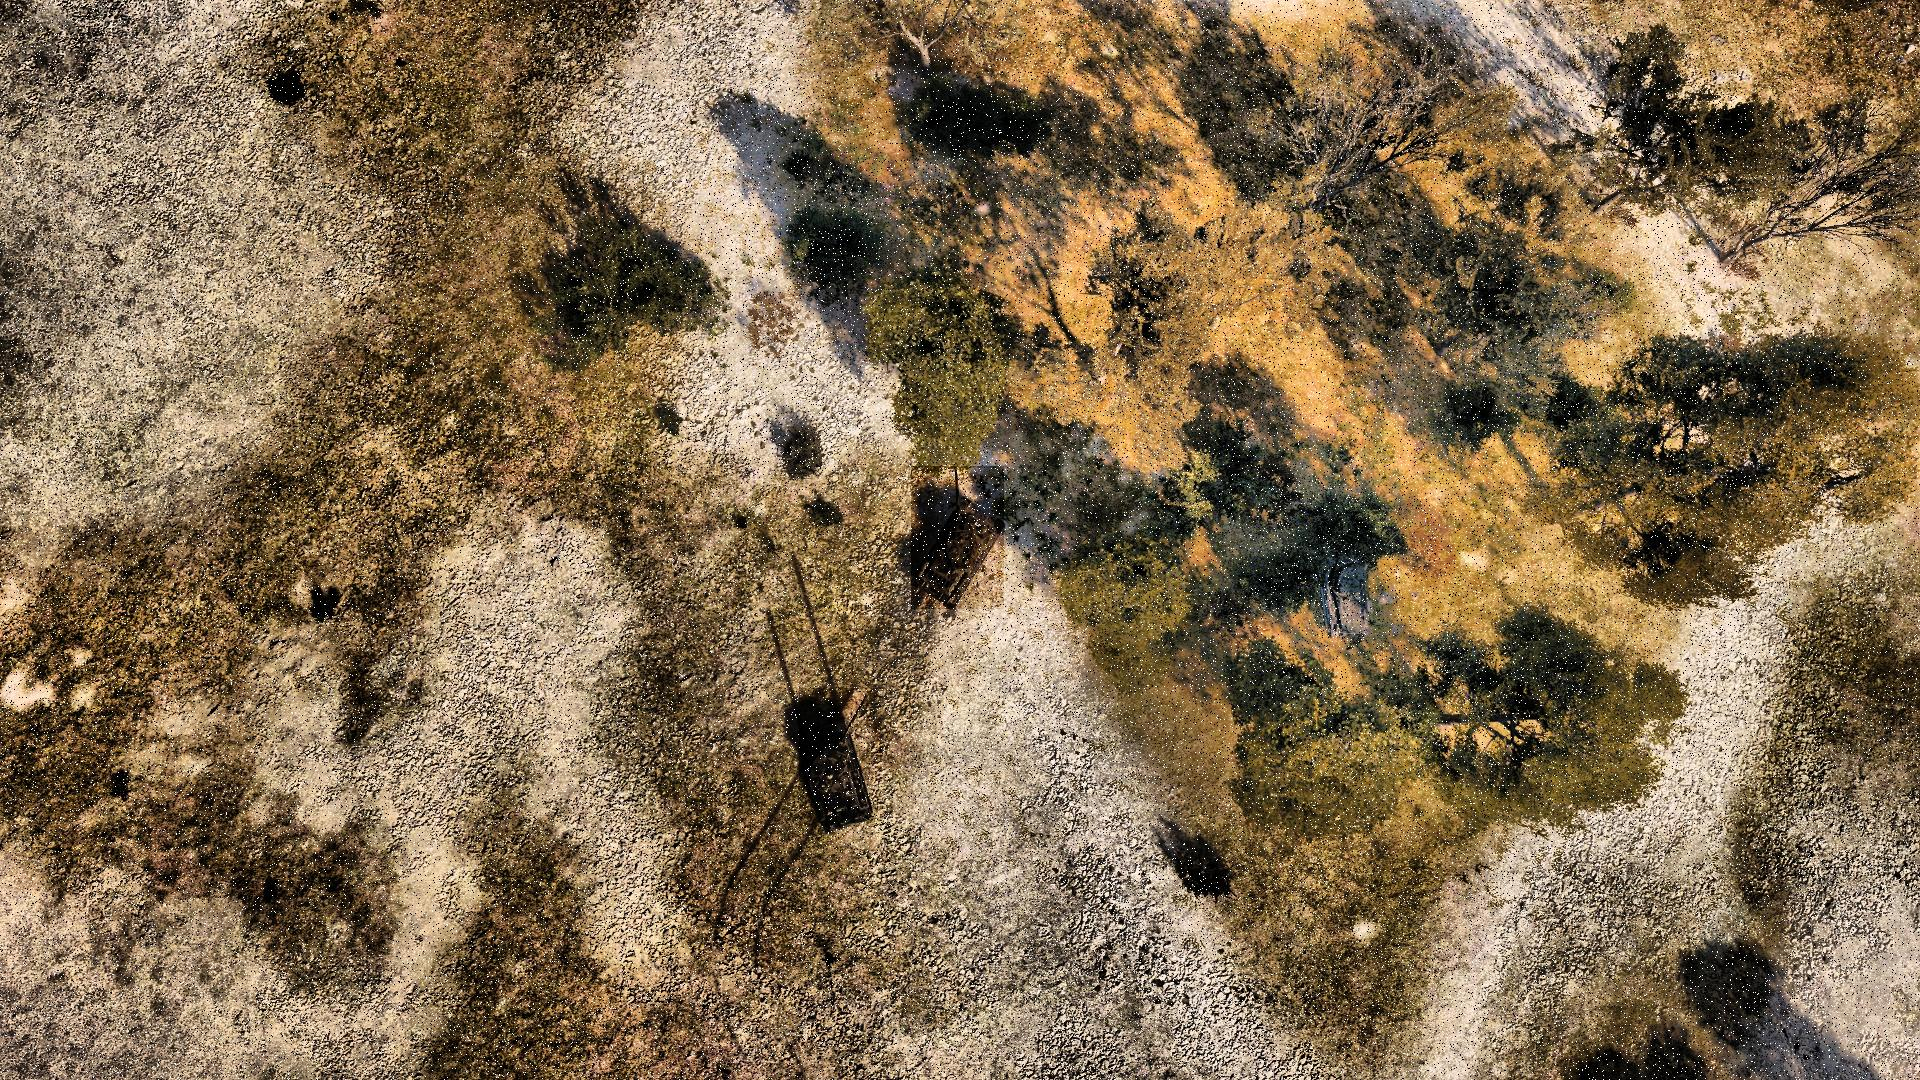military-vehicle: (912, 467, 1005, 610), (800, 688, 882, 827)
